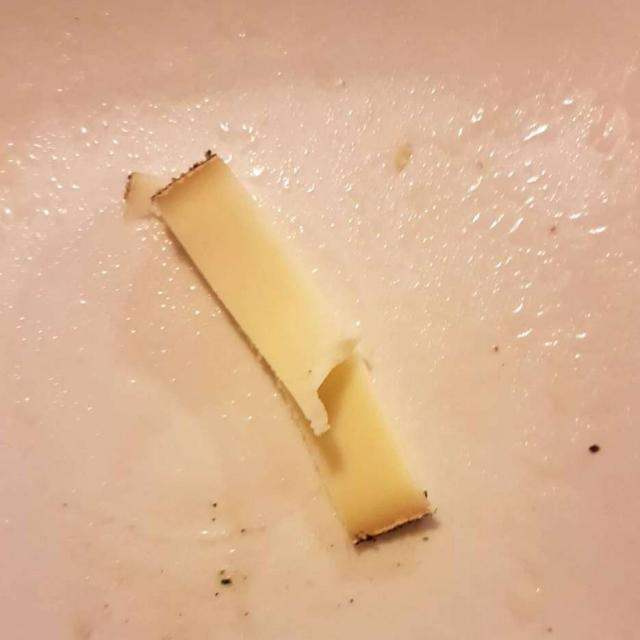gruyere: (120, 148, 442, 547)
